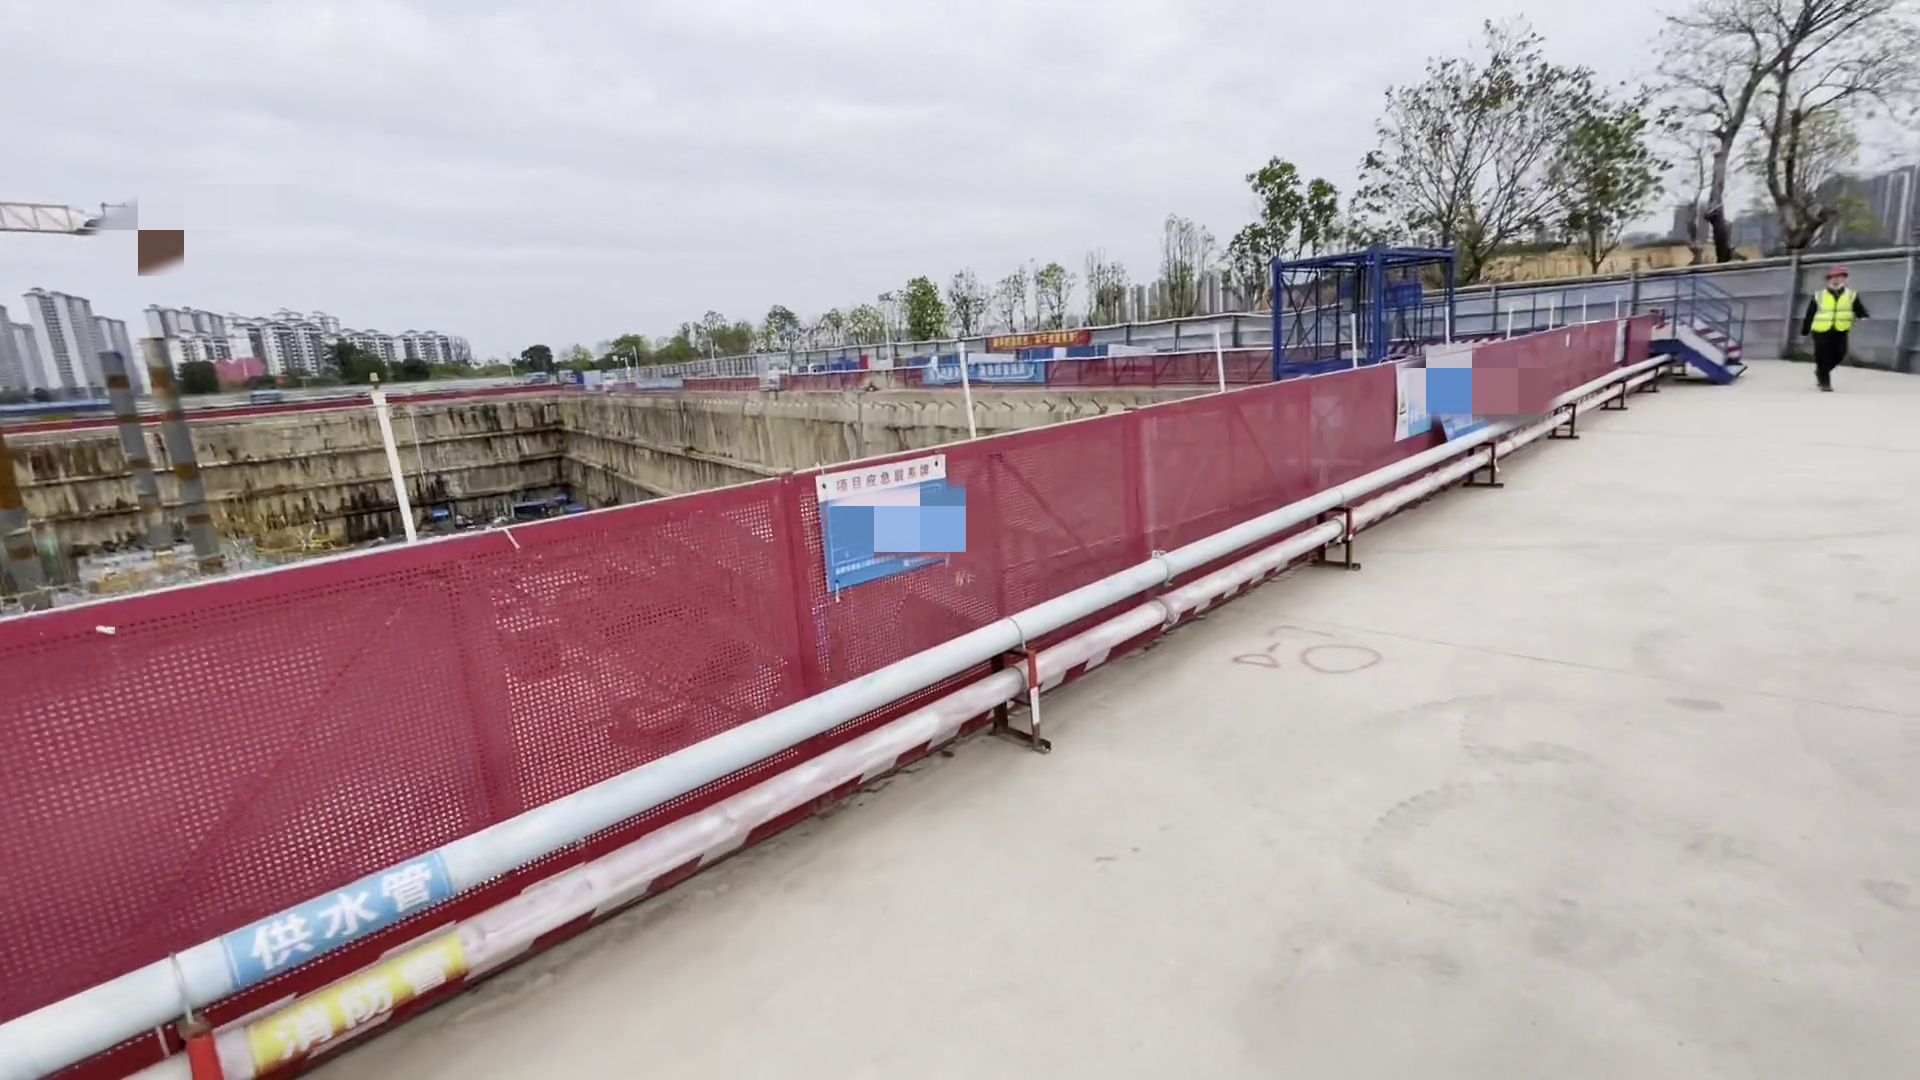fence: (1, 316, 1651, 1027)
helmet: (1816, 258, 1862, 283)
person: (1799, 249, 1858, 382)
slogan: (919, 355, 1042, 392), (981, 328, 1091, 349)
vest: (1810, 288, 1861, 351)
